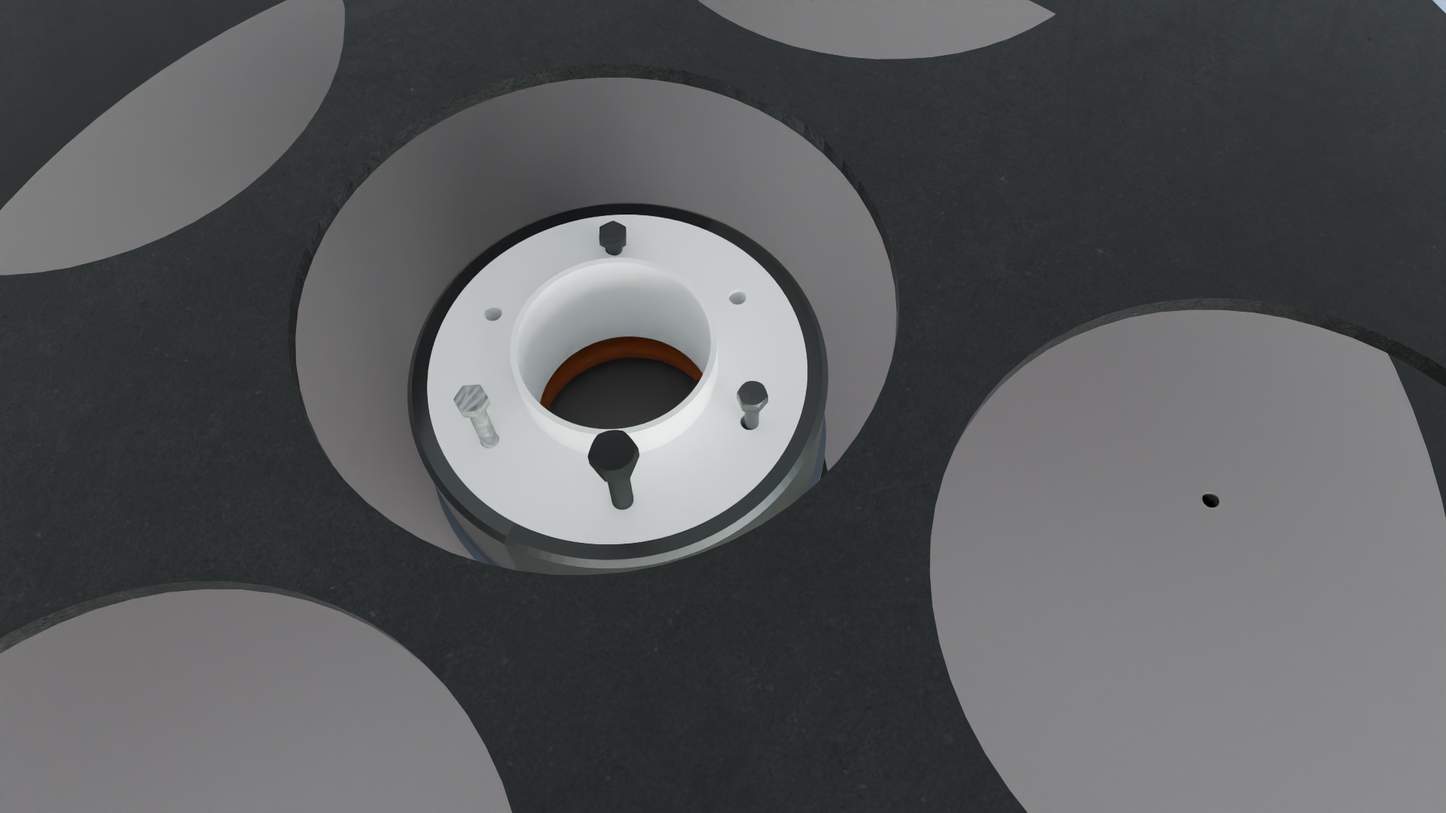bolt: (587, 430, 639, 474), (453, 385, 488, 413), (737, 381, 768, 407), (599, 221, 626, 245)
